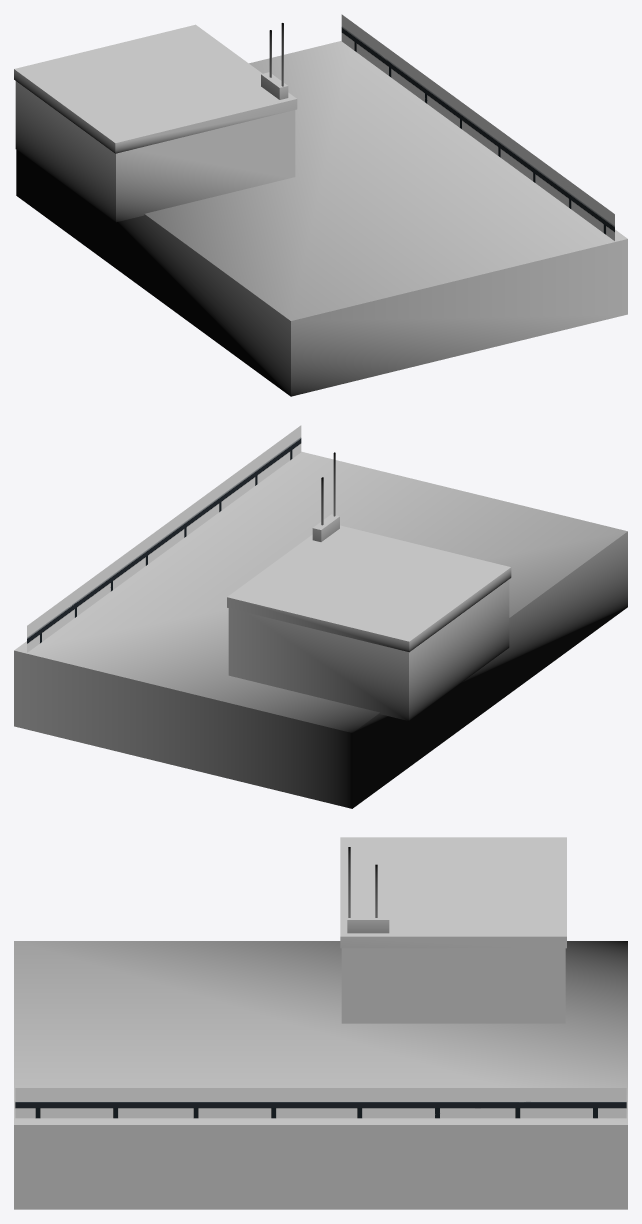
File: MenuRoofTopBuildingfbx.fbx
The picture shows the model from 3 angles, top to bottom: view 1: azimuth 30°, elevation 25°; view 2: azimuth 150°, elevation 25°; view 3: azimuth 270°, elevation 25°; orthographic projection. The views are drawn at different scales.
Visible parts, largest first — view 1: menuBuilding, MenuRoofTopBar; view 2: menuBuilding, MenuRoofTopBar; view 3: menuBuilding, MenuRoofTopBar.
Part boxes in pixels (box(x1,y1,x2,y2)): menuBuilding: box(14, 23, 627, 396); MenuRoofTopBar: box(341, 14, 614, 240); menuBuilding: box(14, 451, 627, 808); MenuRoofTopBar: box(27, 425, 301, 652); menuBuilding: box(14, 837, 627, 1209); MenuRoofTopBar: box(15, 1088, 626, 1118).
Bounding box in the file's own units: 1015 × 606 × 1317.
